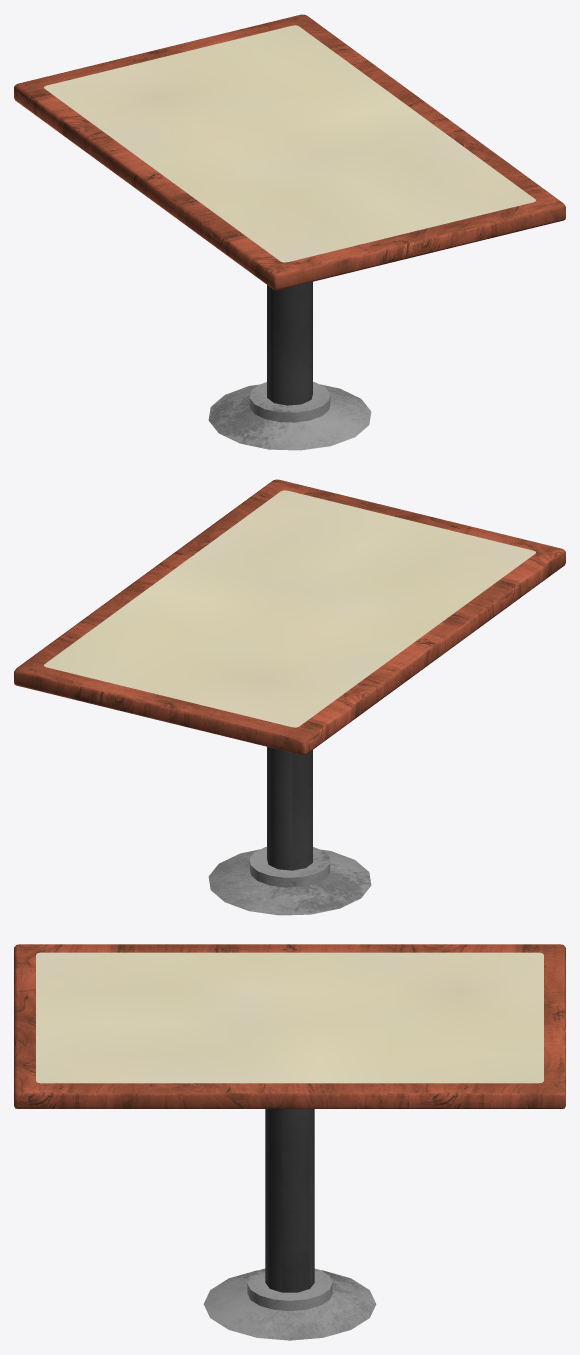
File: Table.fbx
The picture shows the model from 3 angles, top to bottom: view 1: azimuth 30°, elevation 25°; view 2: azimuth 150°, elevation 25°; view 3: azimuth 270°, elevation 25°; orthographic projection. The views are drawn at different scales.
Parts seen in each view (by area): view 1: Table; view 2: Table; view 3: Table.
Part boxes in pixels (x1,y1,x2,y2): Table: (14, 14, 565, 450); Table: (14, 479, 565, 915); Table: (14, 944, 565, 1340).
Size of the model in its own units: 63.54 by 56.52 by 98.8.
